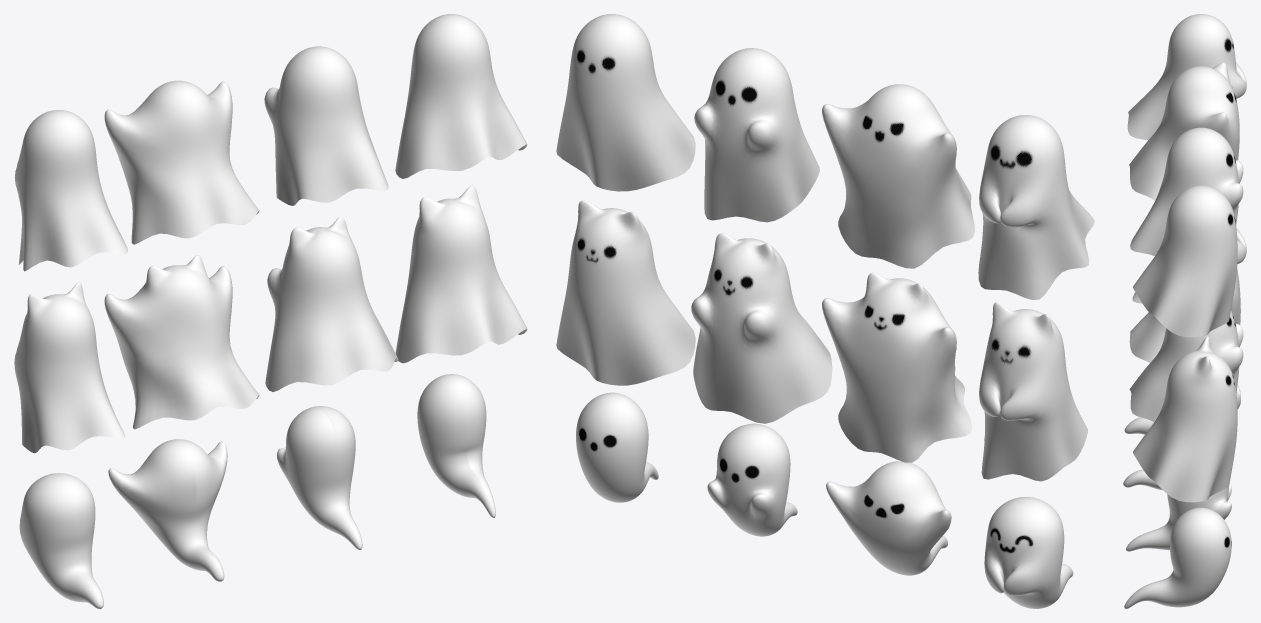
3 renders of one model, left to right at view 1: azimuth 30°, elevation 25°; view 2: azimuth 150°, elevation 25°; view 3: azimuth 270°, elevation 25°, orthographic. The views are drawn at different scales.
Visible parts, largest first — view 1: huitugou_5090_06, huitugou_5090_10, huitugou_5090_07, huitugou_5090_08, huitugou_5090_12, huitugou_5090_11, huitugou_5090_05, huitugou_5090_09, huitugou_5090_02, huitugou_5090_03, huitugou_5090_01, huitugou_5090_04; view 2: huitugou_5090_10, huitugou_5090_06, huitugou_5090_07, huitugou_5090_08, huitugou_5090_12, huitugou_5090_11, huitugou_5090_09, huitugou_5090_05, huitugou_5090_02, huitugou_5090_03, huitugou_5090_01, huitugou_5090_04; view 3: huitugou_5090_08, huitugou_5090_12, huitugou_5090_10, huitugou_5090_11, huitugou_5090_04, huitugou_5090_09, huitugou_5090_07, huitugou_5090_01, huitugou_5090_06, huitugou_5090_03, huitugou_5090_02, huitugou_5090_05.
Part boxes in pixels (box(x1,y1,x2,y2)): huitugou_5090_06: box(104, 255, 259, 429); huitugou_5090_10: box(104, 80, 259, 244); huitugou_5090_07: box(265, 217, 398, 391); huitugou_5090_08: box(395, 185, 527, 363); huitugou_5090_12: box(395, 14, 527, 178); huitugou_5090_11: box(264, 46, 388, 205); huitugou_5090_05: box(14, 282, 125, 453); huitugou_5090_09: box(14, 110, 127, 271); huitugou_5090_02: box(108, 439, 227, 581); huitugou_5090_03: box(19, 473, 103, 608); huitugou_5090_01: box(277, 406, 362, 549); huitugou_5090_04: box(417, 374, 495, 517); huitugou_5090_10: box(822, 84, 974, 268); huitugou_5090_06: box(822, 272, 972, 462); huitugou_5090_07: box(691, 233, 832, 423); huitugou_5090_08: box(556, 200, 695, 385); huitugou_5090_12: box(556, 14, 695, 191); huitugou_5090_11: box(694, 48, 819, 222); huitugou_5090_09: box(978, 115, 1094, 299); huitugou_5090_05: box(979, 302, 1087, 481); huitugou_5090_02: box(826, 461, 951, 575); huitugou_5090_03: box(984, 497, 1073, 608); huitugou_5090_01: box(707, 423, 797, 536); huitugou_5090_04: box(576, 392, 658, 502); huitugou_5090_08: box(1133, 336, 1237, 502); huitugou_5090_12: box(1133, 185, 1237, 337); huitugou_5090_10: box(1129, 62, 1239, 200); huitugou_5090_11: box(1130, 127, 1243, 256); huitugou_5090_04: box(1124, 507, 1231, 608); huitugou_5090_09: box(1127, 14, 1246, 140); huitugou_5090_07: box(1129, 311, 1243, 421); huitugou_5090_01: box(1126, 483, 1231, 551); huitugou_5090_06: box(1129, 268, 1240, 362); huitugou_5090_03: box(1124, 385, 1240, 434); huitugou_5090_02: box(1123, 469, 1162, 490); huitugou_5090_05: box(1132, 228, 1246, 303).
Size of the model in its own units: 746 by 681 by 180.
